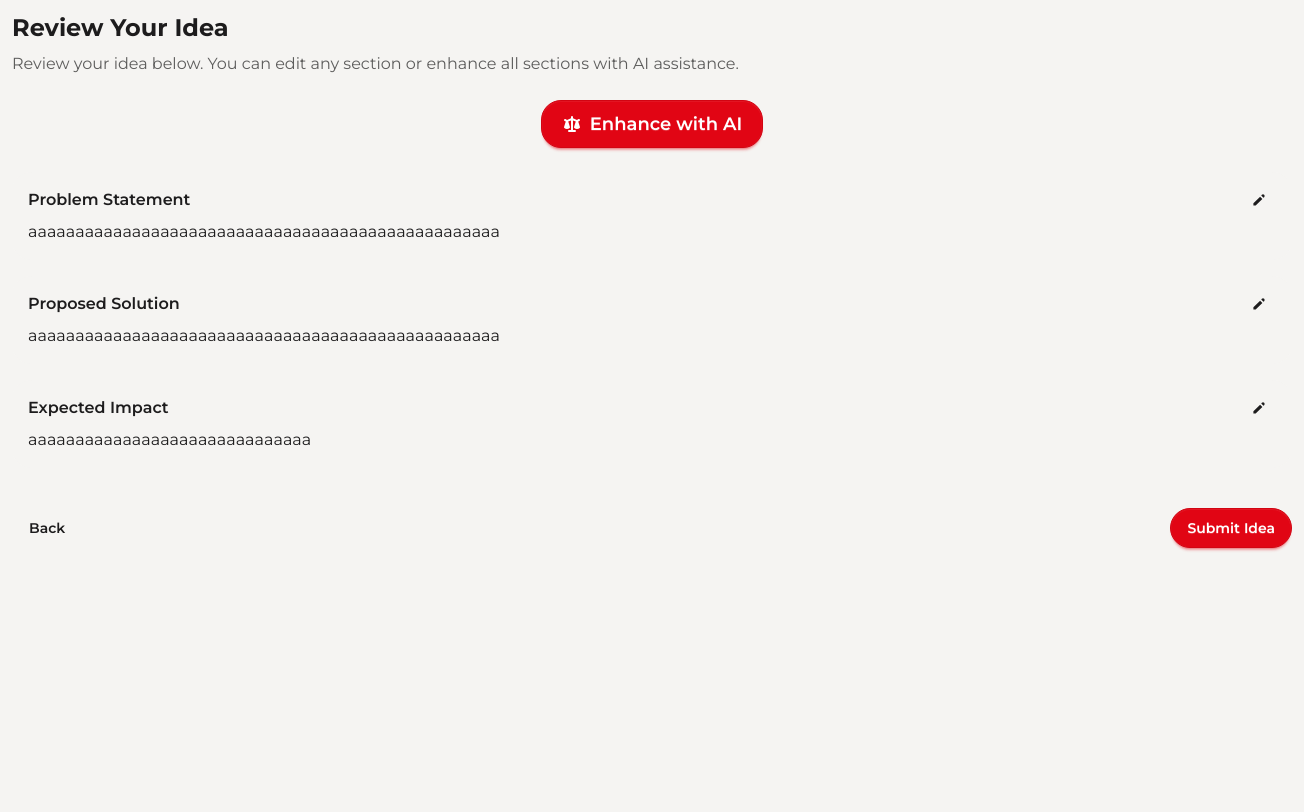
Test: StepReview › Edit Capability (AC: 3) › clicking Save exits edit mode
Click the button with test id "edit-button-problem" at (1259, 200), box [1242,188,1276,212]
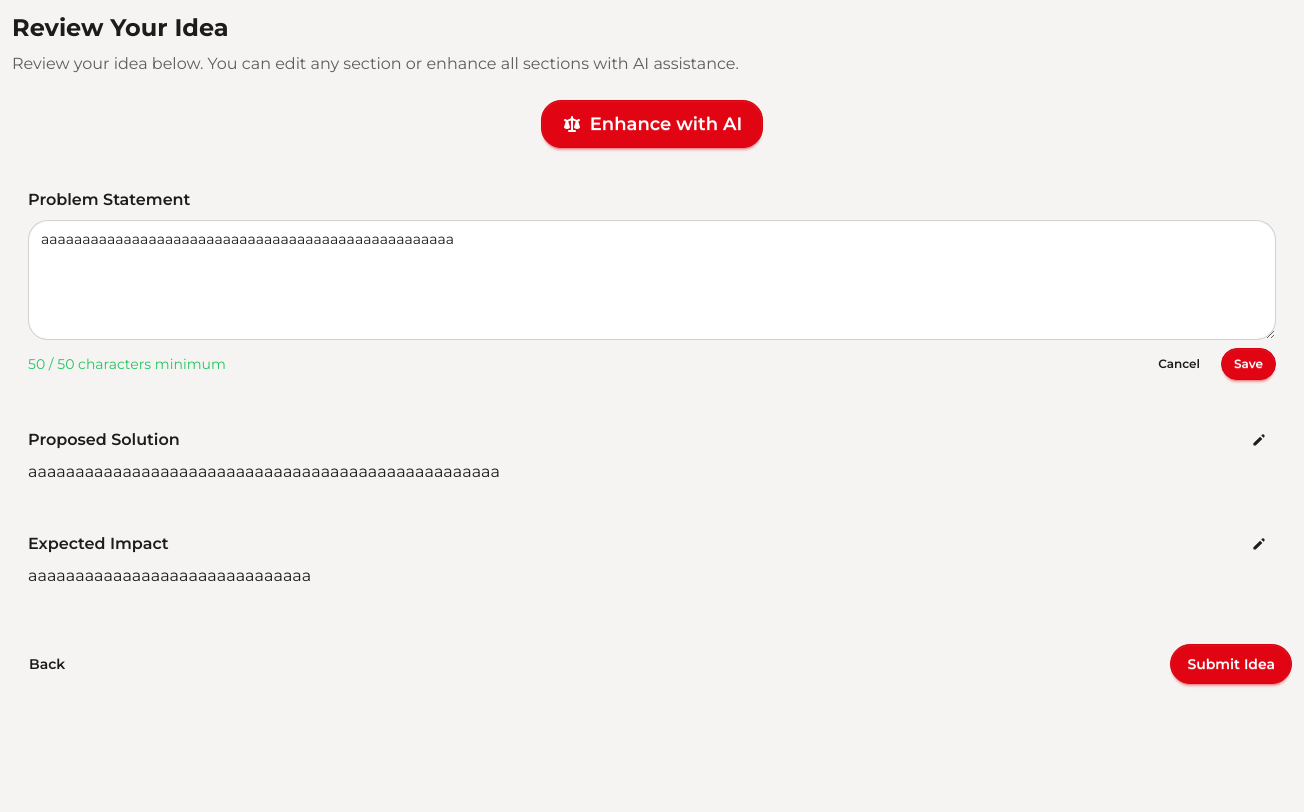
Click the button with test id "save-edit-button" at (1249, 364), box [1221,348,1276,380]
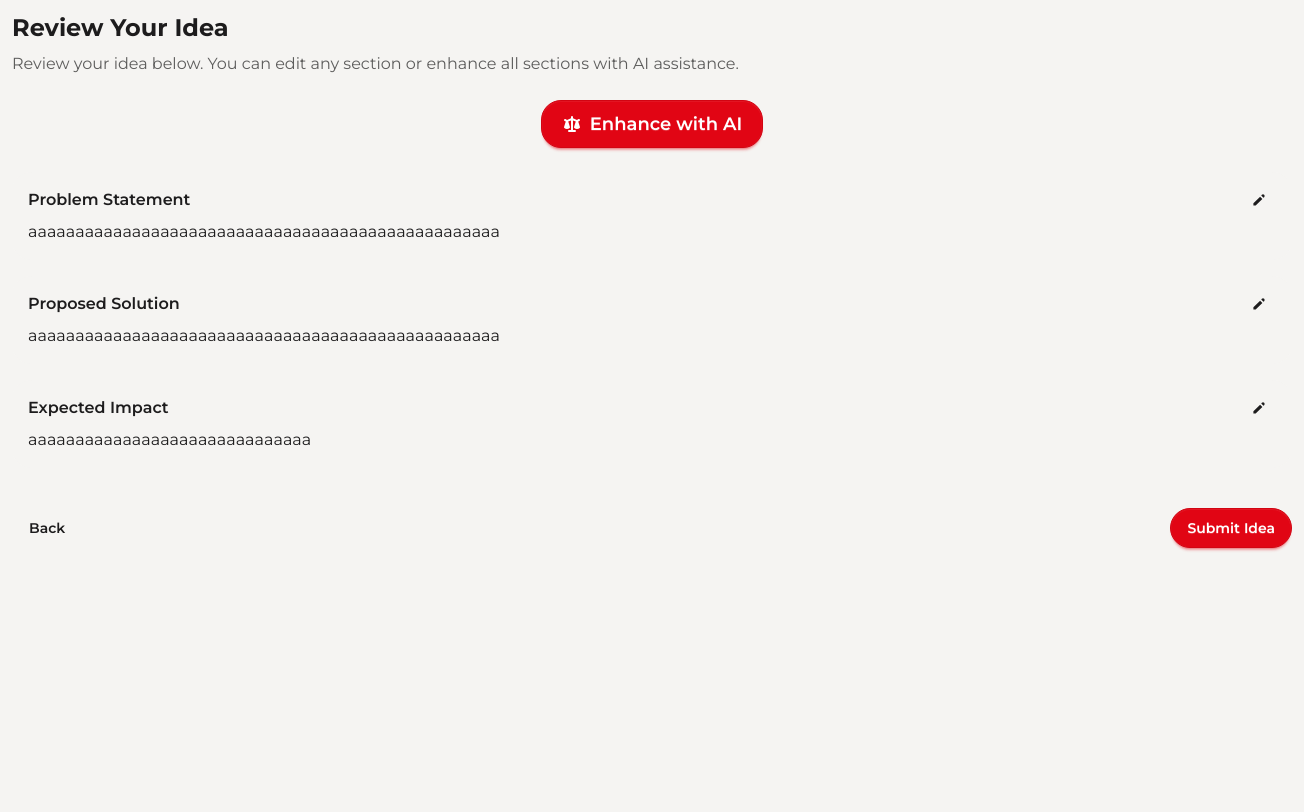
Expected: the text box with test id "edit-textarea-problem" is gone
